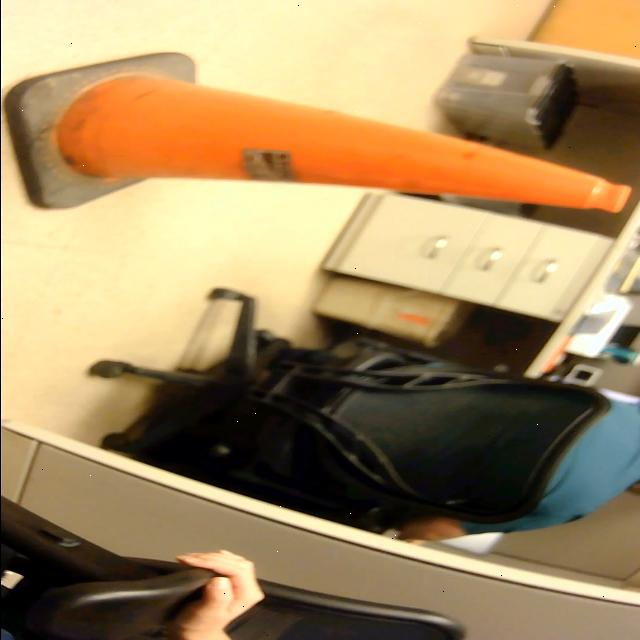traffic cone: (1, 49, 640, 225)
